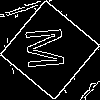M: (25, 25, 75, 71)
